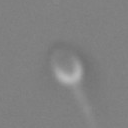normal: (72, 84, 99, 128)
